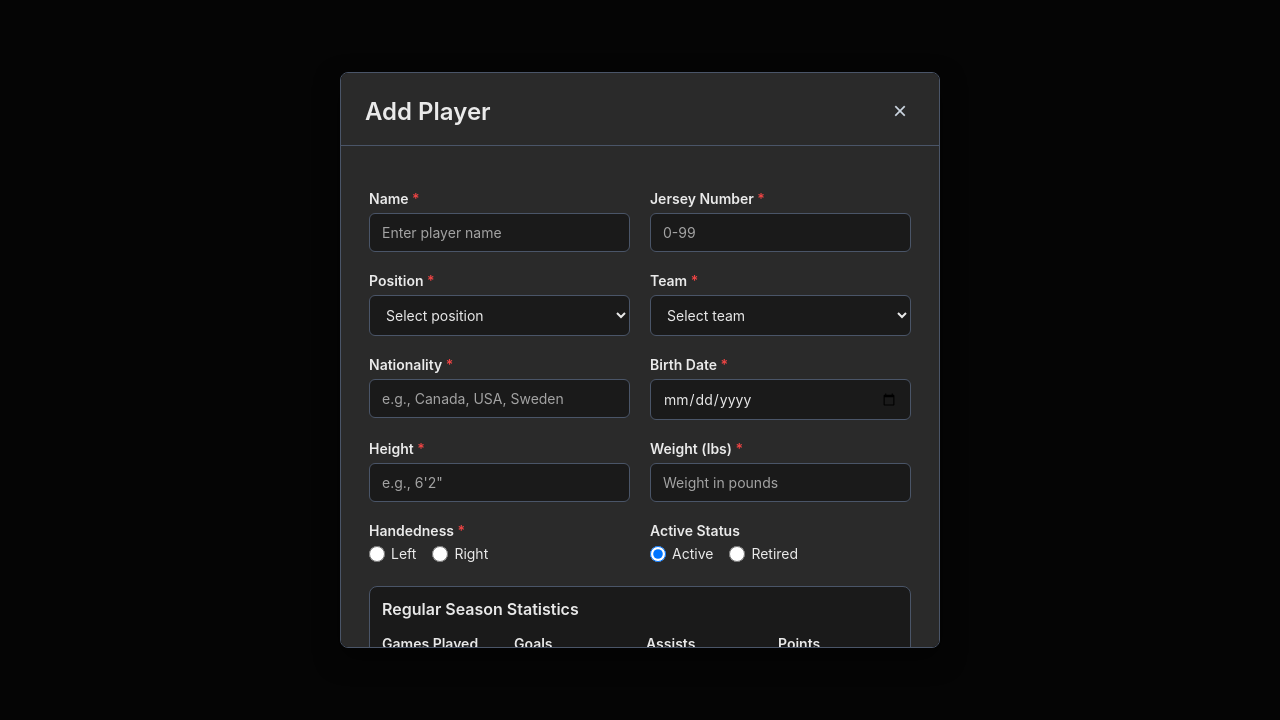
Test: PlayerFormModal › Form Fields › should handle active status radio buttons
Expected: the radio button labelled "Active" is checked, [650,546,666,562]
Click the radio button labelled "Retired" at point(737, 554), box [729,546,745,562]
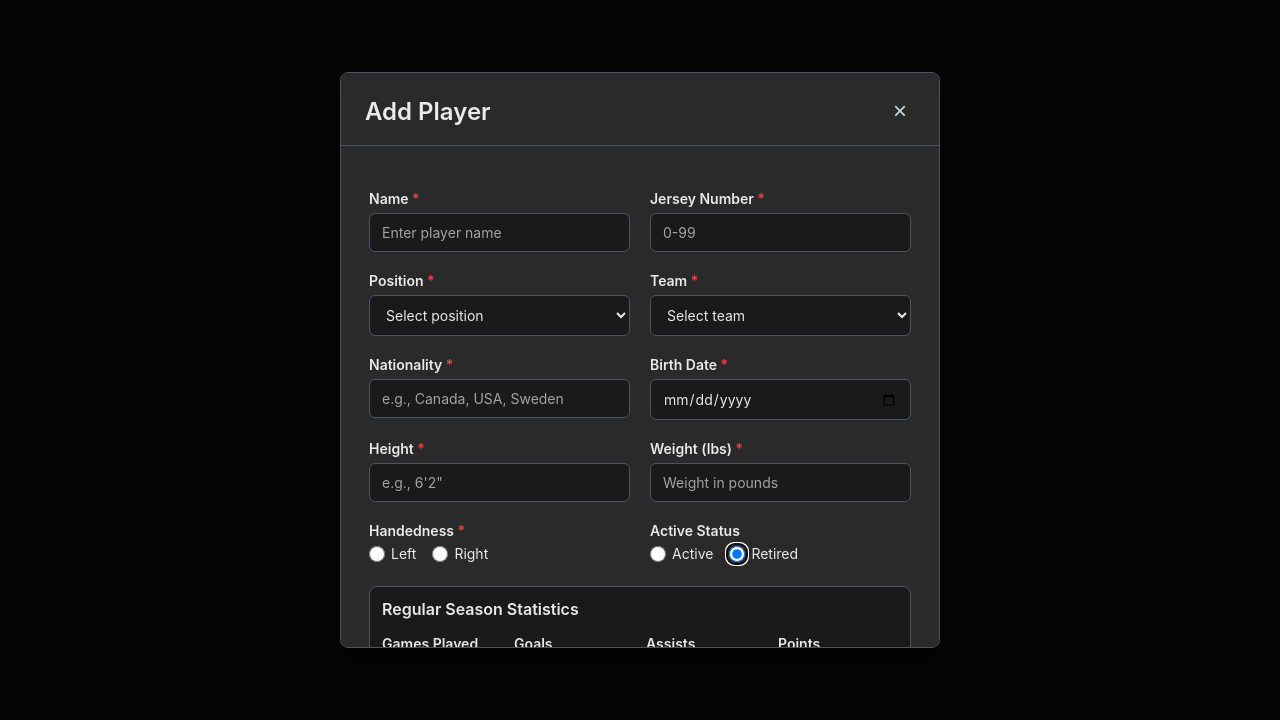
Expected: the radio button labelled "Retired" is checked, [729,546,745,562]
Expected: the radio button labelled "Active" is not checked, [650,546,666,562]
